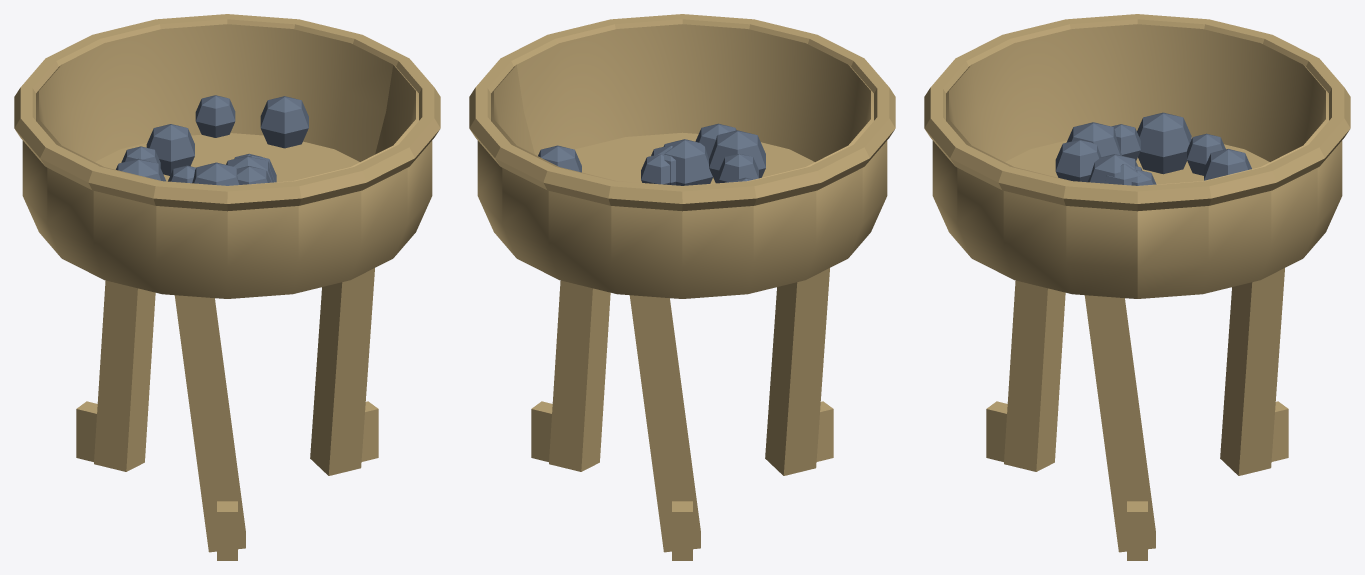
File: roman-bathhouse-and-palaestra-bronze-brazier-cad16bbc__37894.glb
3 views of the same model, side by side, from view 1: azimuth 30°, elevation 25°; view 2: azimuth 150°, elevation 25°; view 3: azimuth 270°, elevation 25° (orthographic).
Visible parts, largest first — view 1: bronze-brazier; view 2: bronze-brazier; view 3: bronze-brazier.
Boxes of the visible parts, x1,y1,x2,y2 form: bronze-brazier: (14,14,440,560); bronze-brazier: (469,14,895,560); bronze-brazier: (924,14,1350,560).
Bounding box in the file's own units: 1.04 × 1.03 × 1.02.
